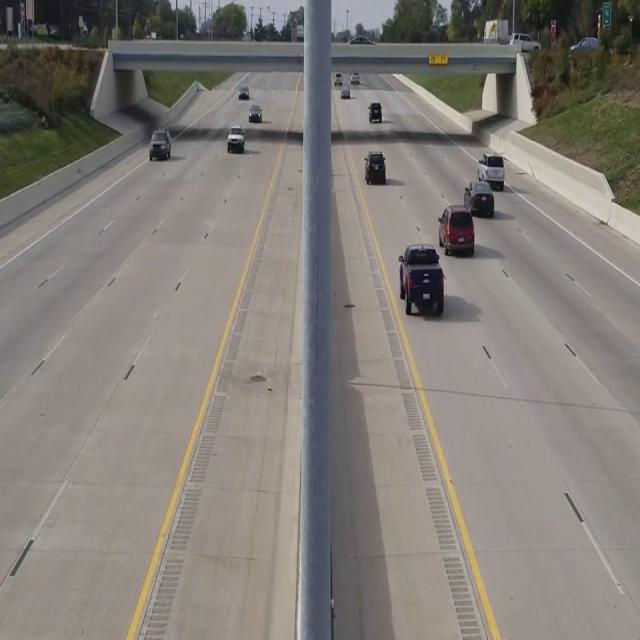car: (398, 242, 445, 316), (437, 204, 474, 256), (463, 179, 494, 217), (148, 128, 170, 161), (364, 150, 385, 183), (508, 32, 540, 51), (569, 36, 599, 54), (227, 124, 244, 153), (368, 101, 381, 122), (249, 103, 261, 122)
